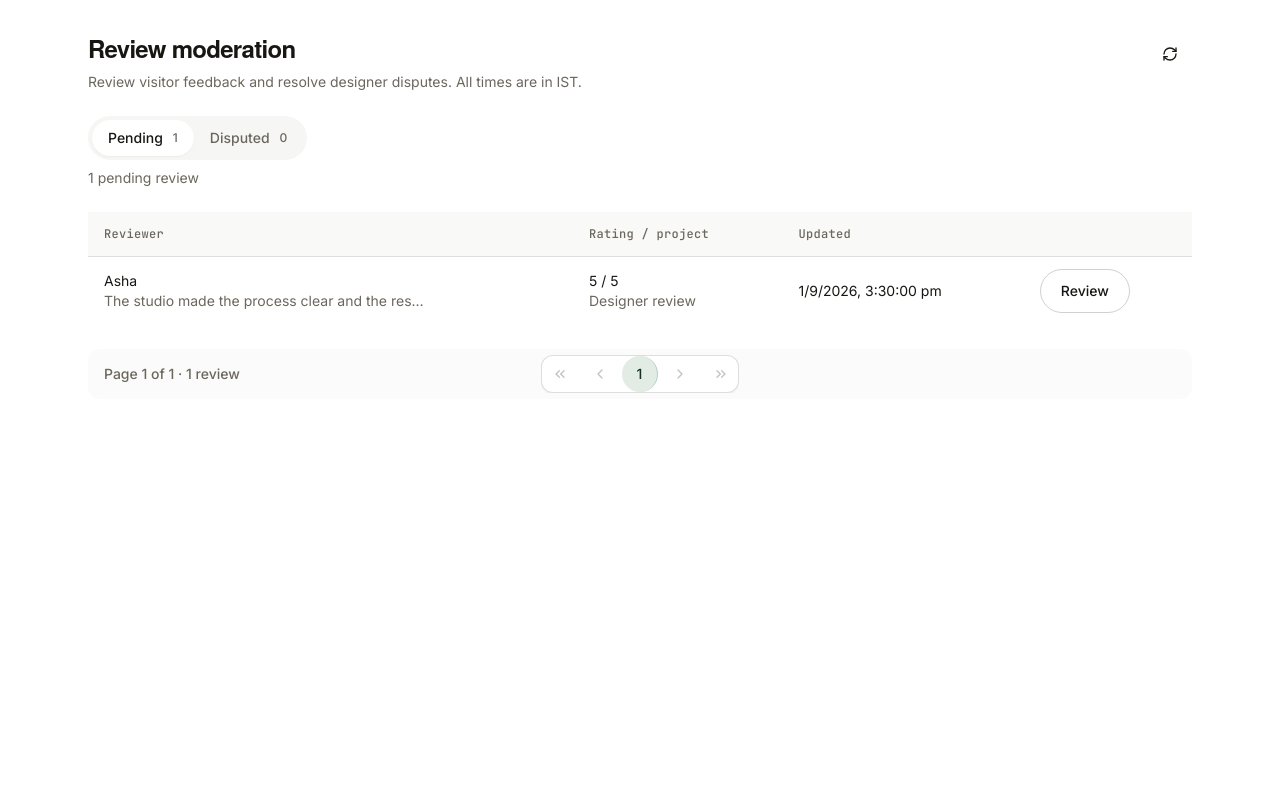
AdminReviewQueue › requires a rejection reason and note, then removes the decided review
This screenshot has width=1280, height=800.
Click the button with aria-label "Review feedback by Asha": (1085, 290) [1040,268,1130,312]
(page scrolled)
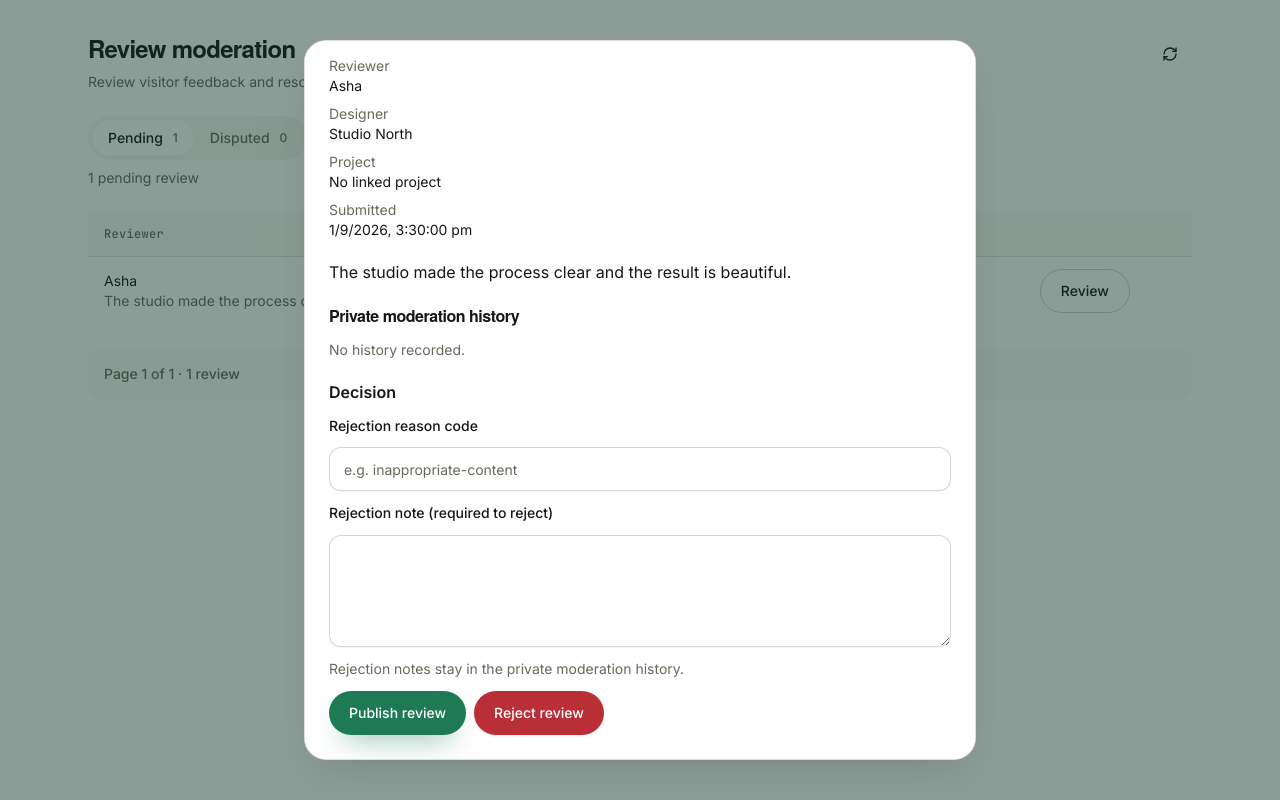
Result: the text "Studio North" is shown at [329,125,412,142]
Click the button "Reject review": (539, 712) [474,690,604,734]
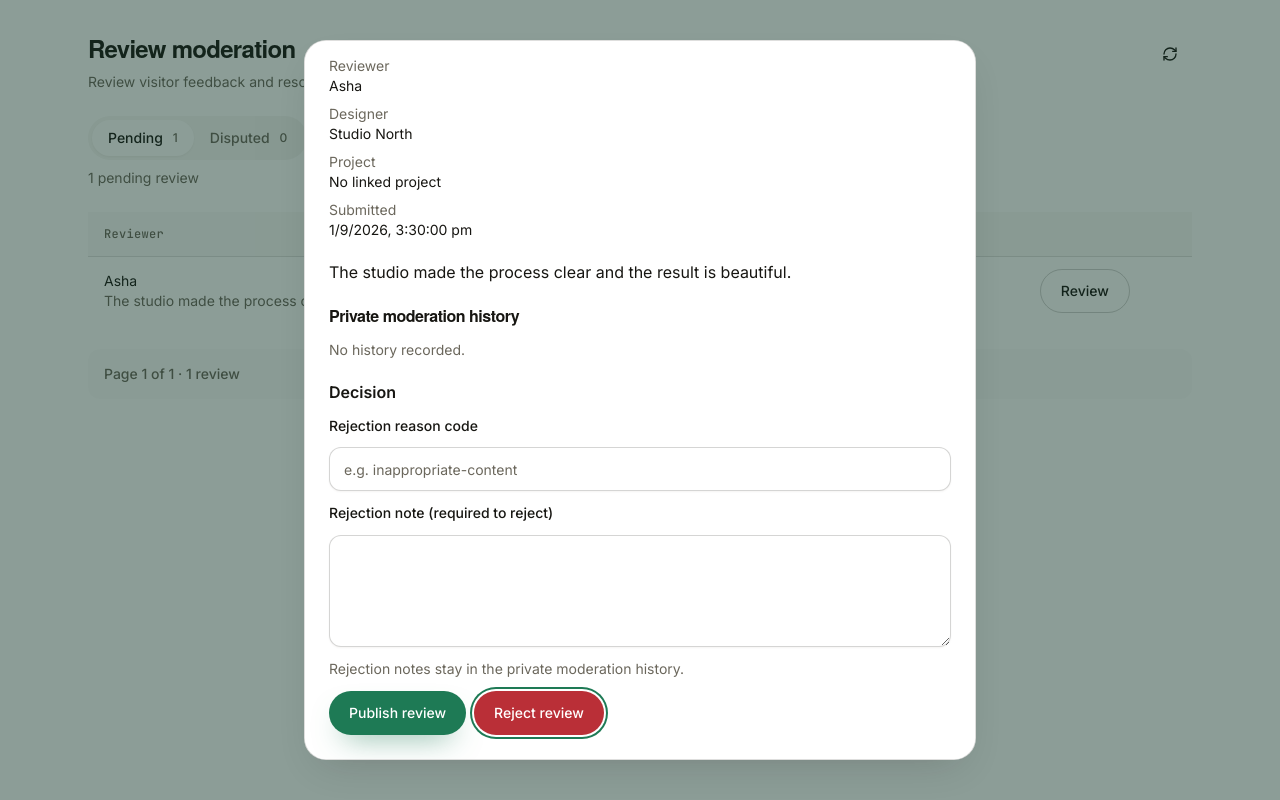
In the field labelled "Rejection reason code": (640, 469) [329,447,951,491], type "spam"
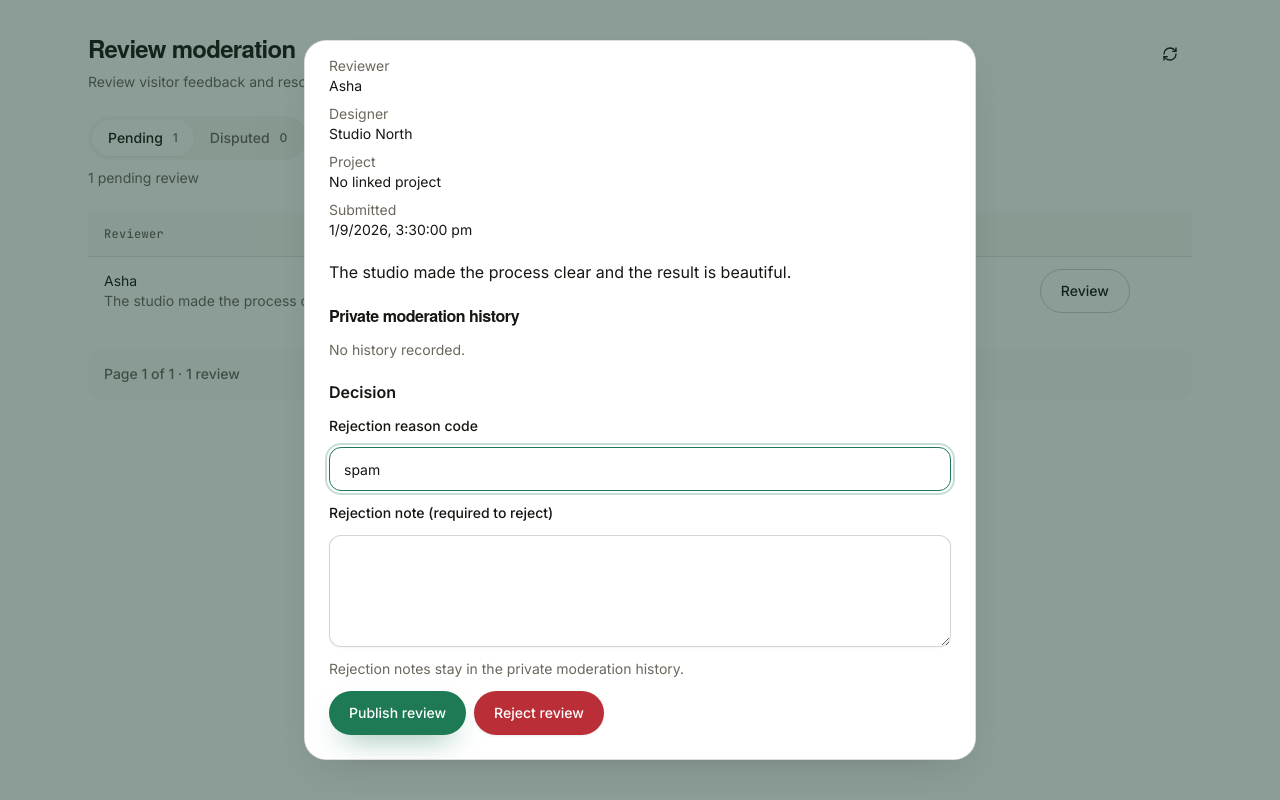
In the text box labelled "Rejection note (required to reject)": (640, 590) [329,534,951,646], type "Promotional content"
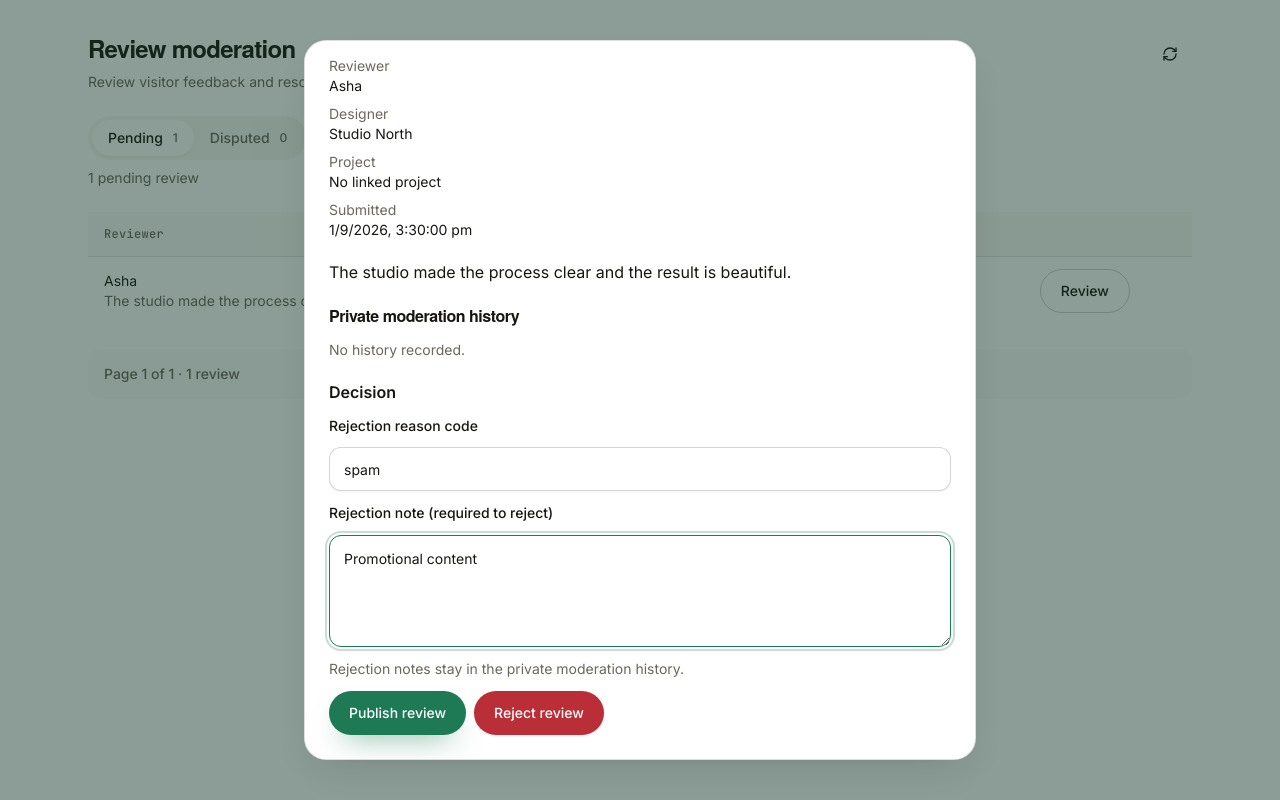
Click the button "Reject review": (539, 712) [474,690,604,734]
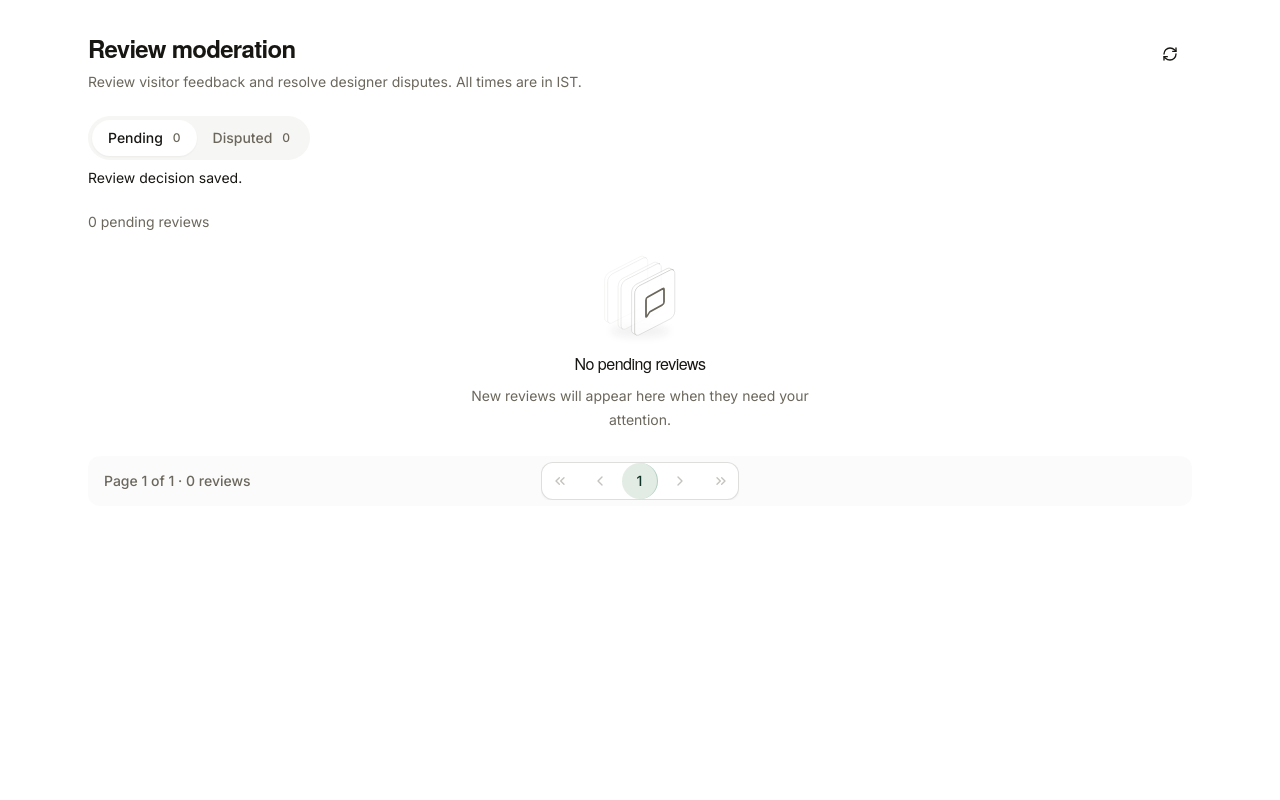
Result: the text "Review decision saved." is shown at [88,169,242,186]
